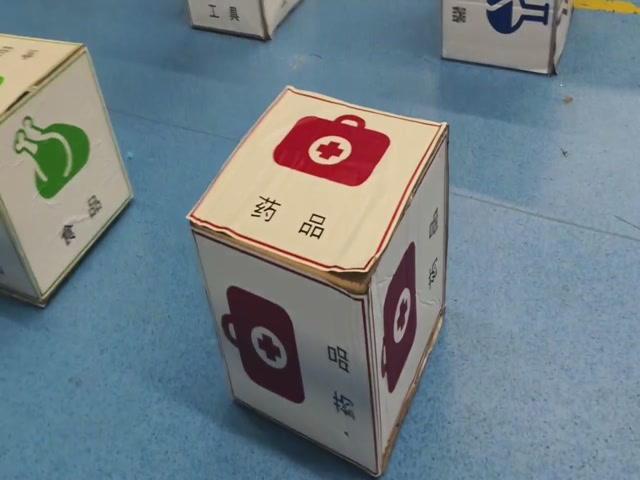Cube_food: (0, 13, 84, 131)
Cube_medicine: (178, 78, 450, 299)
